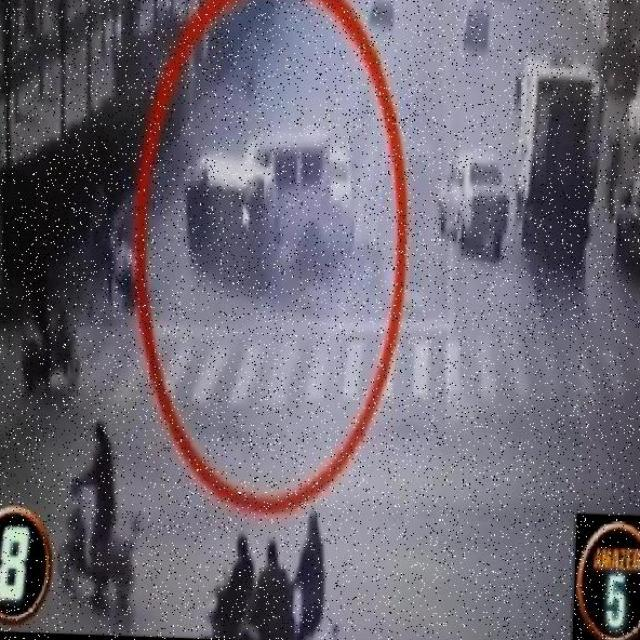accident: (163, 112, 369, 312)
